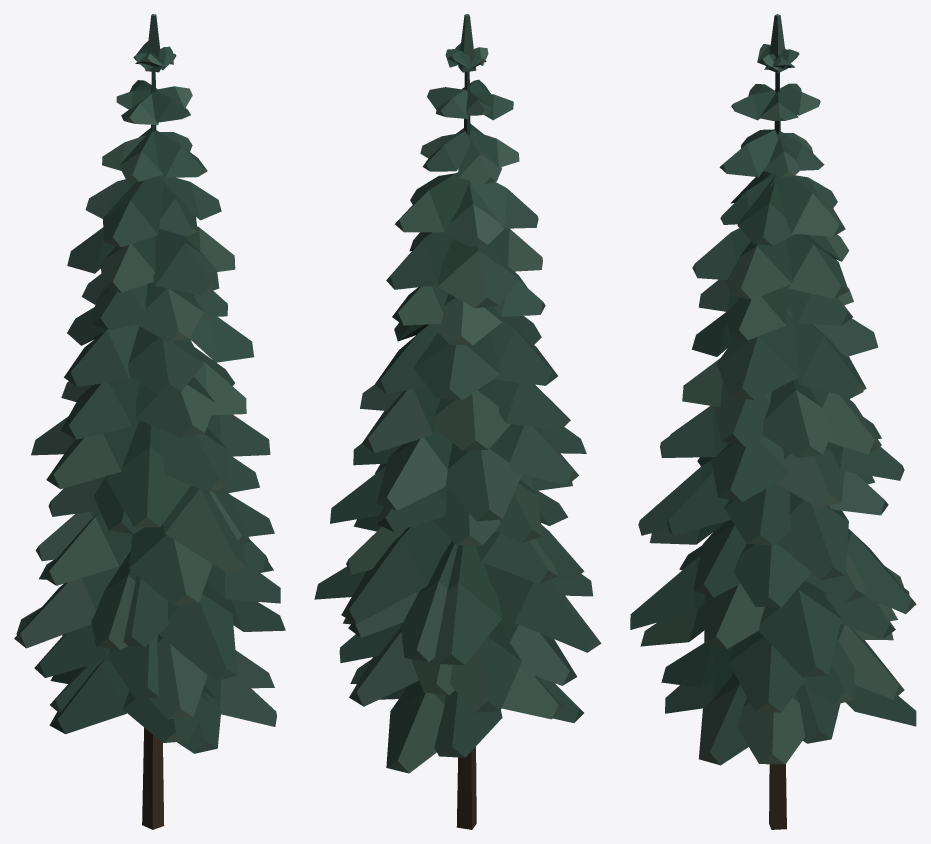
Rendered from pine-tall.glb.
The picture shows the model from 3 angles, left to right: view 1: azimuth 30°, elevation 25°; view 2: azimuth 150°, elevation 25°; view 3: azimuth 270°, elevation 25°; orthographic projection.
Parts seen in each view (by area): view 1: pine-tall; view 2: pine-tall; view 3: pine-tall.
Boxes of the visible parts, x1=… form: pine-tall: x1=14, y1=14, x2=285, y2=829; pine-tall: x1=314, y1=14, x2=601, y2=829; pine-tall: x1=630, y1=14, x2=916, y2=829.
Bounding box in the file's own units: 4.94 × 14.5 × 4.64.
